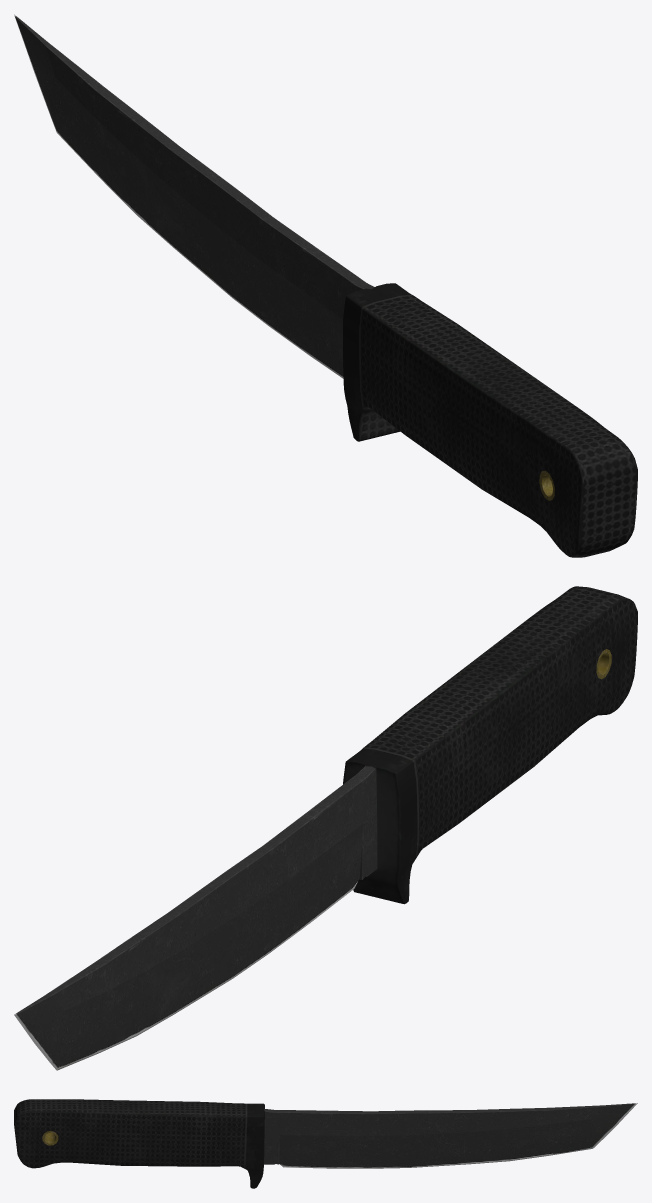
File: b_tanto.glb
3 views of the same model, one above another, from view 1: azimuth 30°, elevation 25°; view 2: azimuth 150°, elevation 25°; view 3: azimuth 270°, elevation 25° (orthographic). The views are drawn at different scales.
Visible parts, largest first — view 1: govde; view 2: govde; view 3: govde.
Boxes of the visible parts, box(x1,y1,x2,y2) form: govde: box(14, 14, 637, 557); govde: box(14, 586, 637, 1070); govde: box(14, 1099, 637, 1188).
Size of the model in its own units: 0.0189 by 0.045 by 0.32.
Materials: 1 (1 with a texture image).
